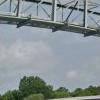Bridge: (4, 1, 94, 45)
